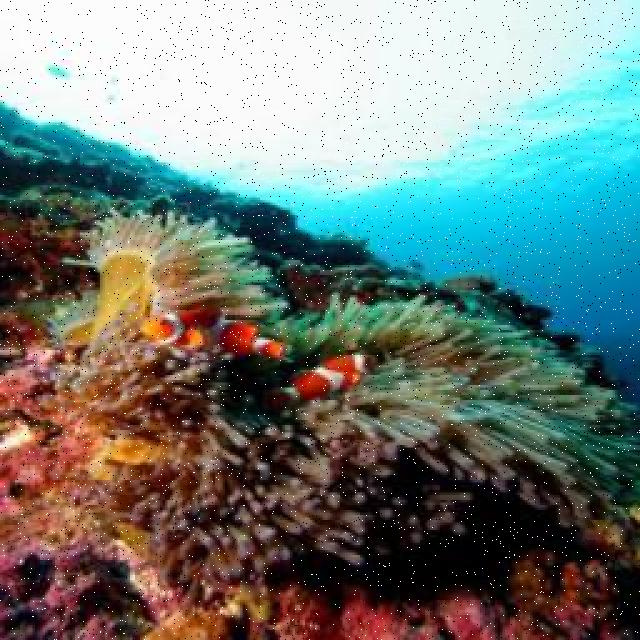fish: (139, 304, 285, 359), (271, 354, 378, 406)
reefs: (59, 345, 471, 613), (260, 292, 638, 529), (42, 207, 287, 365)
